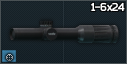EOTech Vudu 1-6x24 riflescope: (0, 0, 127, 64)
